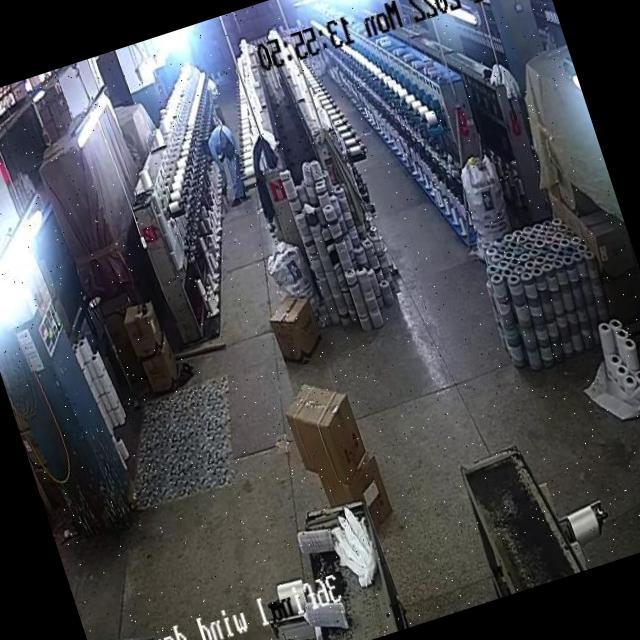person: (199, 119, 254, 210)
